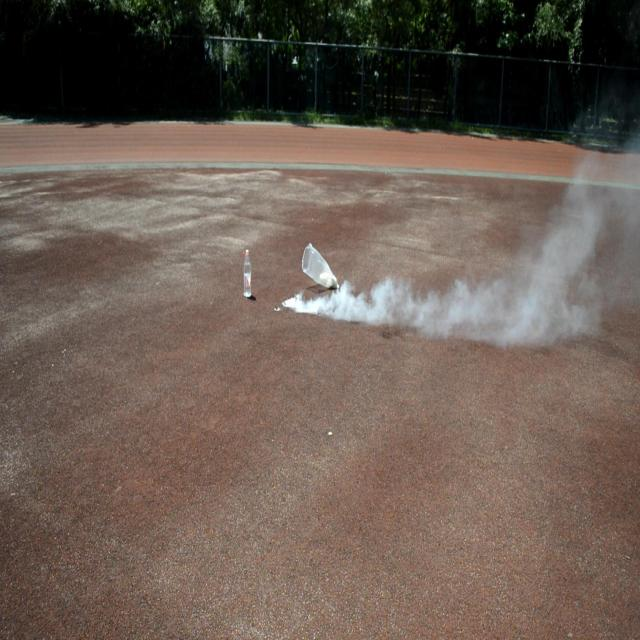smoke: (327, 131, 637, 348)
